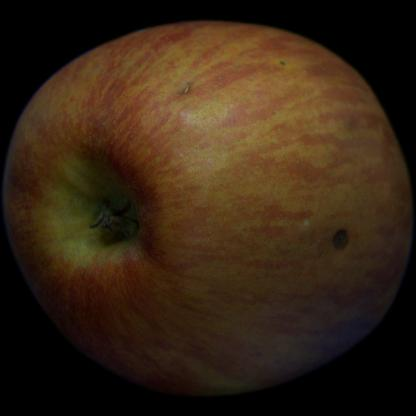defect: (304, 204, 376, 278)
